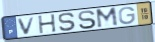G: (118, 6, 136, 25)
H: (37, 13, 58, 35)
M: (95, 6, 120, 30)
S: (57, 12, 78, 32), (78, 10, 98, 30)
V: (17, 16, 37, 35)
